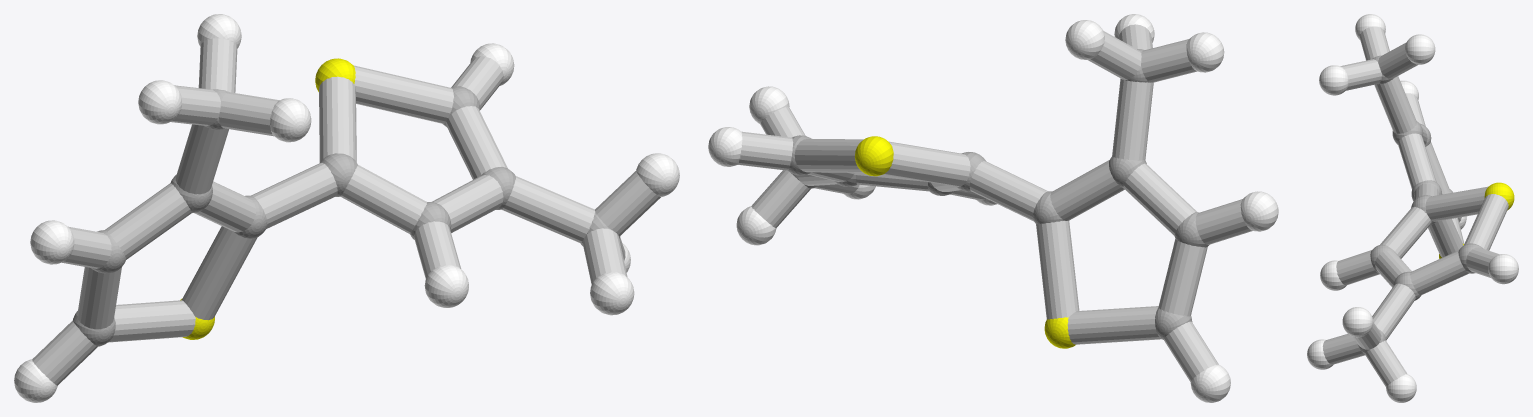
Rendered from Methylthiophene_Phi_20_Theta_280_Methylthiophene.glb.
3 renders of one model, left to right at view 1: azimuth 30°, elevation 25°; view 2: azimuth 150°, elevation 25°; view 3: azimuth 270°, elevation 25°, orthographic. The views are drawn at different scales.
Visible parts, largest first — view 1: grp7965, grp3621, grp1, grp7241; view 2: grp7965, grp3621, grp1, grp7241; view 3: grp7965, grp3621, grp1, grp7241.
Part boxes in pixels (x1,y1,x2,y2): grp7965: (32,38,660,385); grp3621: (14,14,679,402); grp1: (73,86,620,346); grp7241: (180,58,355,339); grp7965: (737,24,1252,381); grp3621: (708,14,1278,402); grp1: (788,49,1209,339); grp7241: (855,136,1075,348); grp7965: (1322,26,1508,386); grp3621: (1307,14,1518,402); grp1: (1358,55,1483,353); grp7241: (1439,182,1514,258).
Size of the model in its own units: 9.53 by 5.4 by 4.14.
